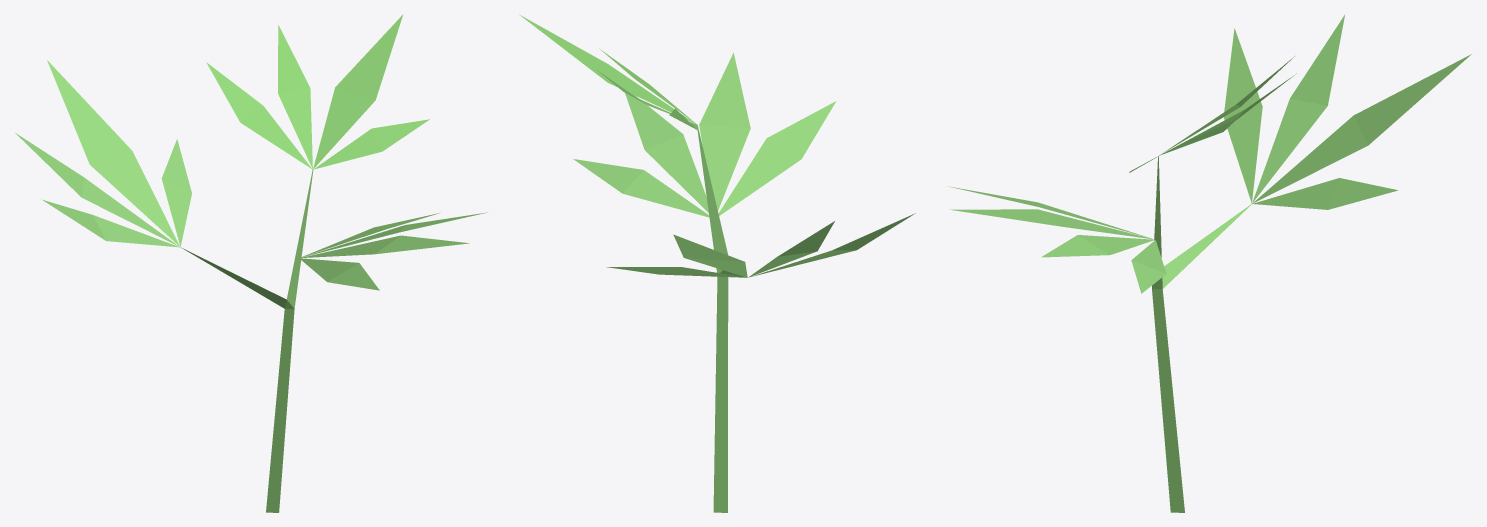
Rendered from Plant_i_OneS_07.fbx.
3 renders of one model, left to right at view 1: azimuth 30°, elevation 25°; view 2: azimuth 150°, elevation 25°; view 3: azimuth 270°, elevation 25°, orthographic. The views are drawn at different scales.
Parts seen in each view (by area): view 1: Plant_i_OneS_07; view 2: Plant_i_OneS_07; view 3: Plant_i_OneS_07.
Part boxes in pixels (left/top/right/bottom): Plant_i_OneS_07: left=15, top=14, right=487, bottom=512; Plant_i_OneS_07: left=519, top=14, right=915, bottom=512; Plant_i_OneS_07: left=948, top=15, right=1471, bottom=512.
Size of the model in its own units: 39.64 by 45.59 by 45.6.
